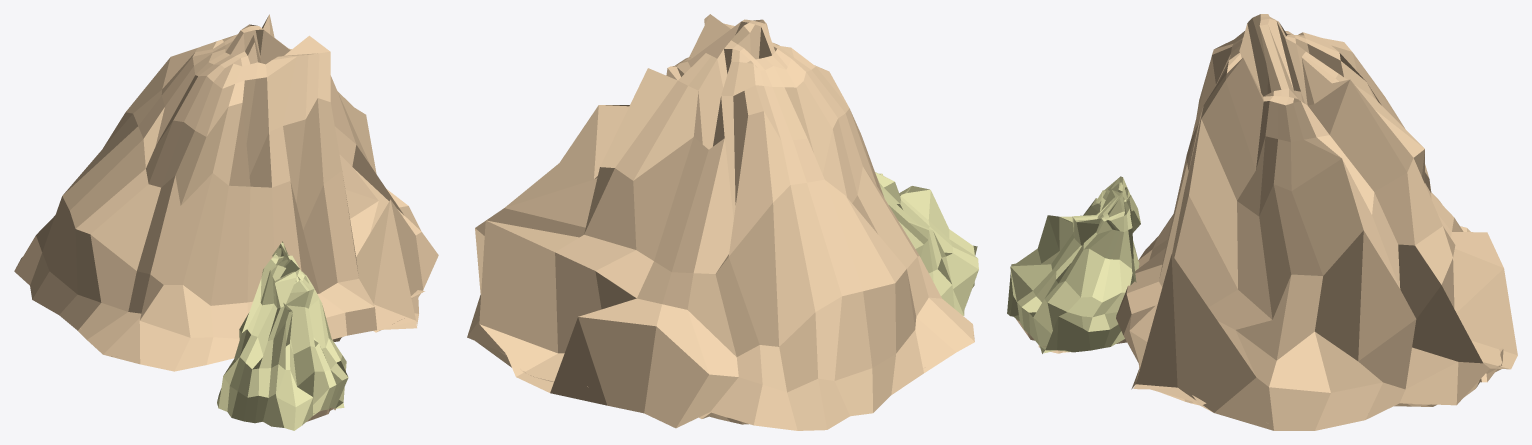
File: stone3.glb
The picture shows the model from 3 angles, left to right: view 1: azimuth 30°, elevation 25°; view 2: azimuth 150°, elevation 25°; view 3: azimuth 270°, elevation 25°; orthographic projection. The views are drawn at different scales.
Parts seen in each view (by area): view 1: Plane.002; view 2: Plane.002; view 3: Plane.002.
Boxes of the visible parts, bbox=[...] form: Plane.002: bbox=[14, 14, 438, 430]; Plane.002: bbox=[467, 14, 978, 430]; Plane.002: bbox=[1007, 14, 1517, 430].
Size of the model in its own units: 1.62 by 1.29 by 1.75.
